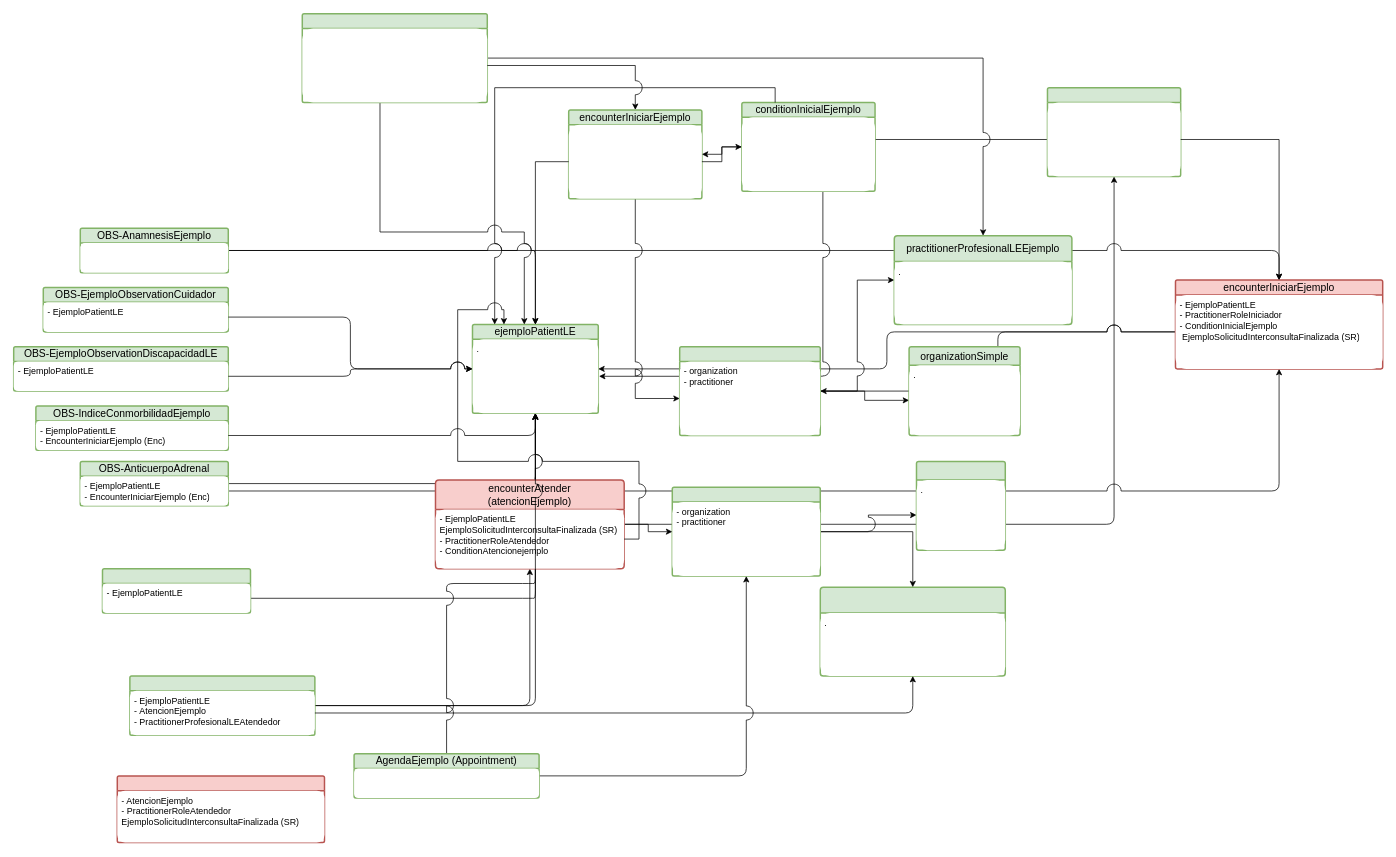
Some shapes in this 1396 by 857 pixel diagram are drawn without their labels. Each missing label, with the box of its shape:
- EjemploPatientLE - AtencionEjemplo (Enc): (80, 243, 228, 272)
- EjemploPatientLE - AteniconEjemplo (encounter): (1047, 102, 1180, 176)
- EjemploPatientLE - EncounterIniciarEjemplo: (741, 117, 875, 191)
- EjemploPatientLE - practitionerProfesionalEjemplo - EncounterIniciarEjemplo: (302, 28, 487, 102)
- EjemploPatientLE - PractitionerRoleAtendedor: (354, 768, 539, 798)
- EjemploPatientLE - PractitionerRoleIniciador - ConditionInicialEjemplo: (568, 124, 702, 198)
AllergyIntoleranceExample: (101, 568, 251, 613)
conditionAtencionEjemplo: (1046, 87, 1181, 177)
MessageHeaderAtender: (116, 775, 325, 843)
organizationLE: (915, 460, 1006, 551)
practitionerProfesionalLEAtendedor: (819, 586, 1006, 676)
practitionerRoleAtendedor: (671, 486, 821, 576)
practitionerRoleIniciador: (679, 346, 821, 436)
PrednisonaEjemplo (MR): (129, 675, 315, 736)
QuestionnaireResponseIniciarLE: (301, 13, 488, 103)
